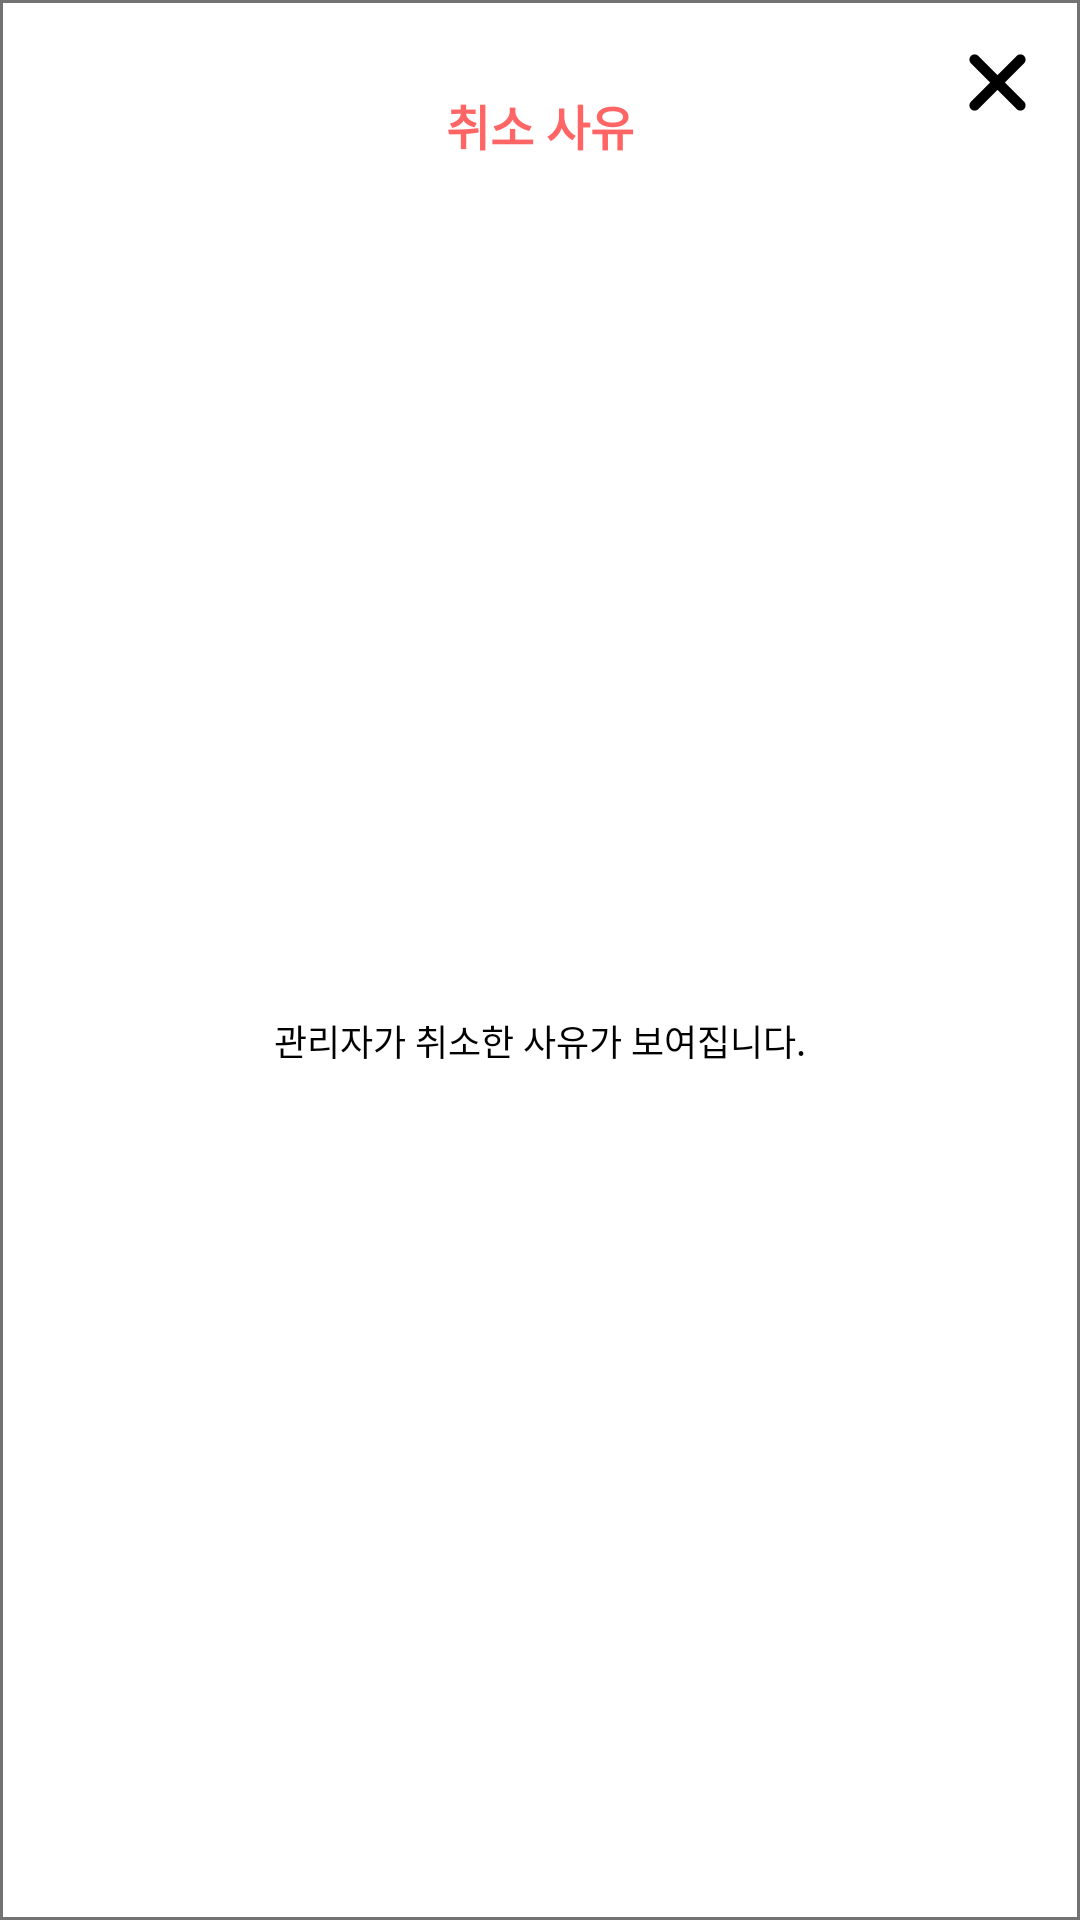

Icons on this 1080x1920 Android screen, each with its box as (x1, y1, x2, y2):
close: (969, 54, 1026, 111)
